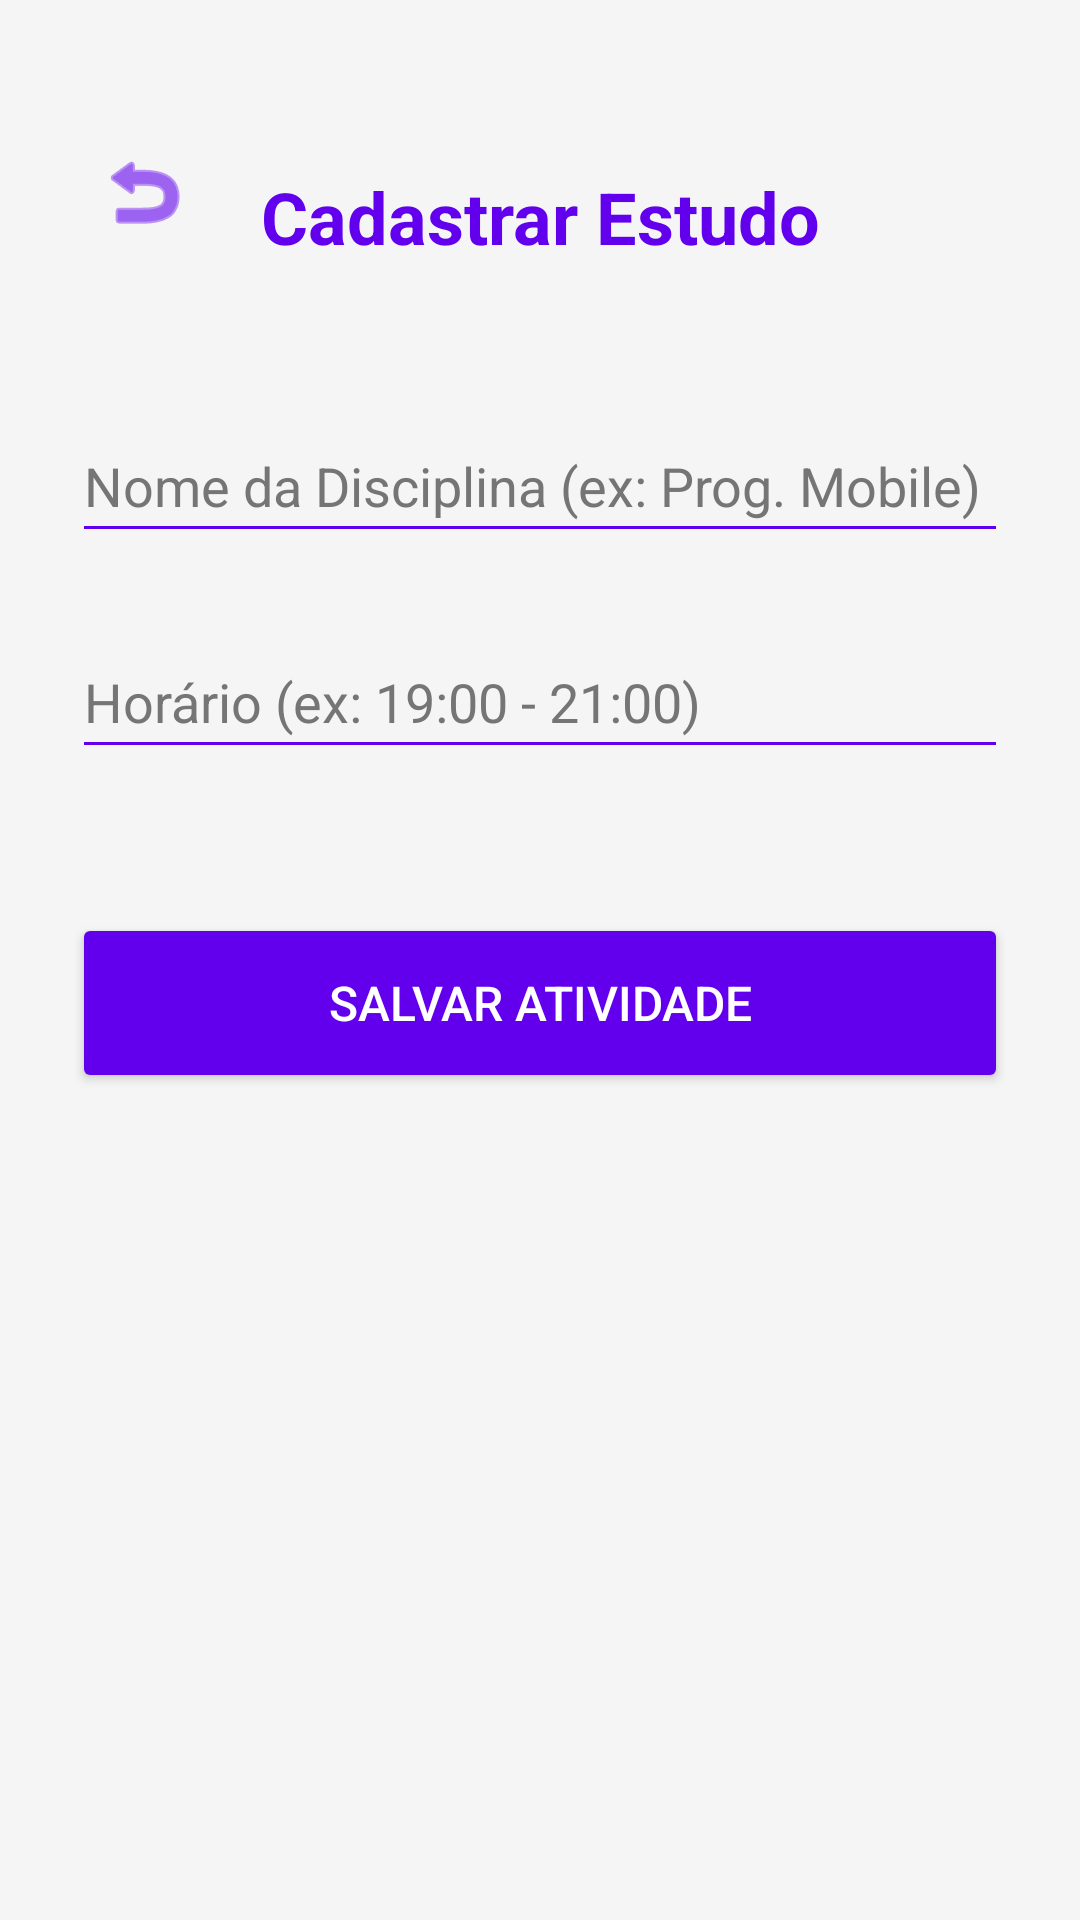

Point at icon controls on the screen. Image size 1080px×1920px, points as (x,y).
Voltar para a tela anterior: (145,192)
